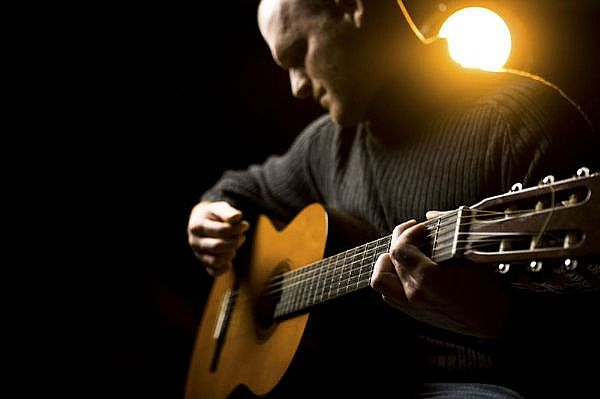guitar: (185, 167, 598, 399)
